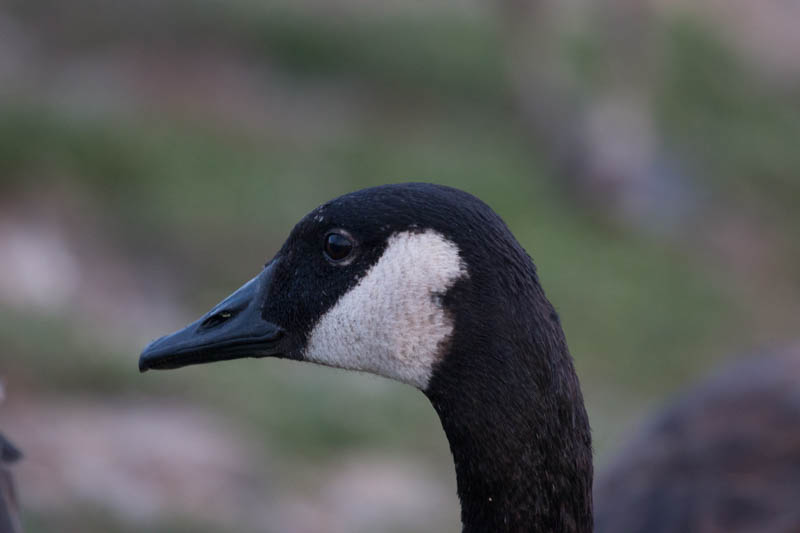goose-head: (137, 183, 546, 396)
